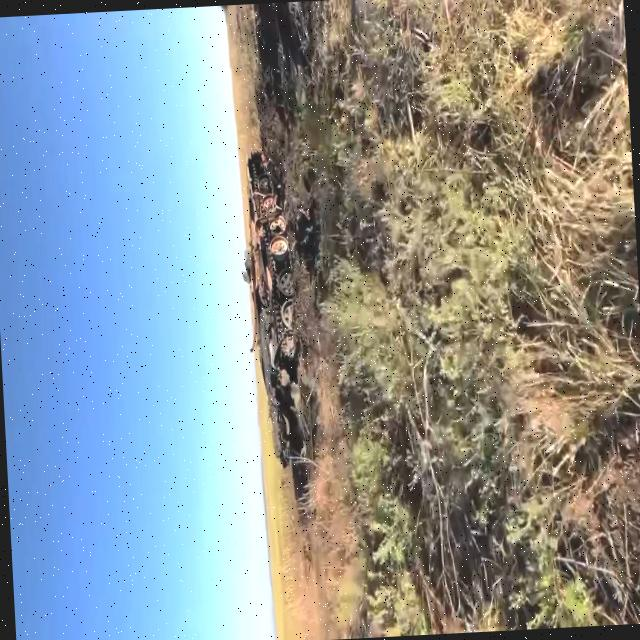Destroyed: (235, 146, 314, 465)
